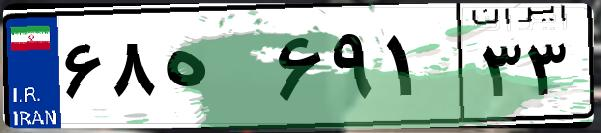1: (385, 28, 445, 110)
3: (475, 38, 525, 113), (525, 38, 570, 115)
6: (270, 28, 330, 110), (57, 26, 110, 100)
8: (110, 28, 158, 98)
9: (330, 28, 385, 110)
ه: (158, 20, 270, 120)
